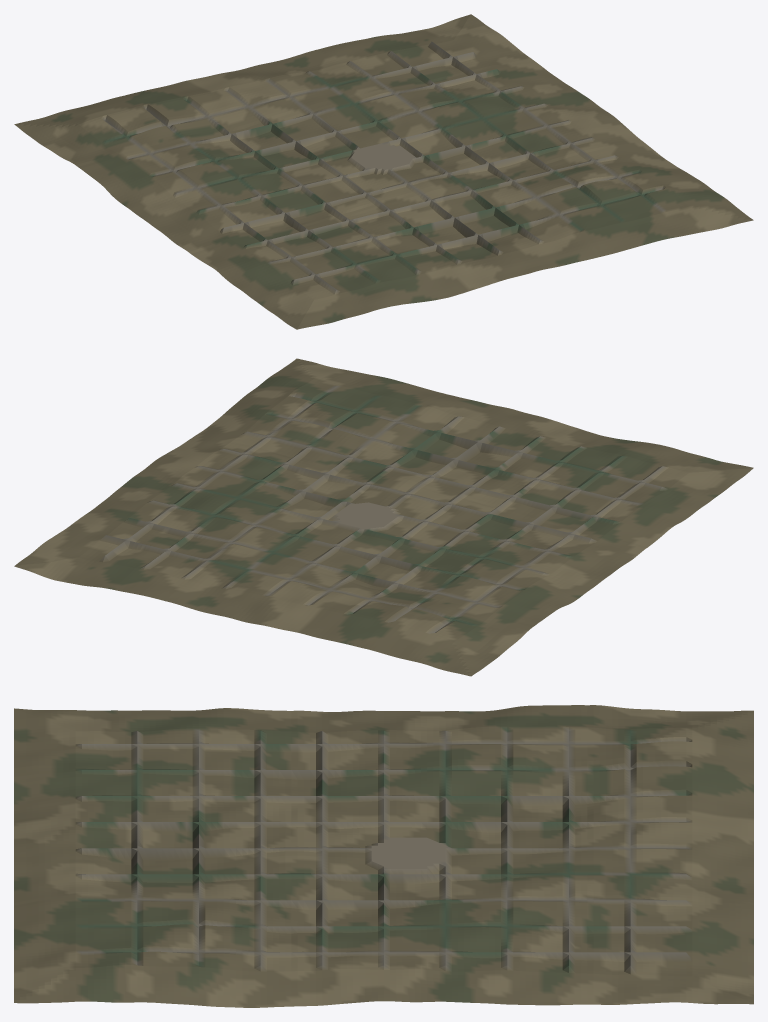
The model's file is sw_seabed.glb.
The picture shows the model from 3 angles, top to bottom: view 1: azimuth 30°, elevation 25°; view 2: azimuth 150°, elevation 25°; view 3: azimuth 270°, elevation 25°; orthographic projection. The views are drawn at different scales.
Visible parts, largest first — view 1: geometry_0; view 2: geometry_0; view 3: geometry_0.
Part boxes in pixels (<box>): geometry_0: <box>14,14,753,329</box>; geometry_0: <box>14,358,753,676</box>; geometry_0: <box>14,705,753,1007</box>.
Bounding box in the file's own units: 560 × 19.96 × 600.
